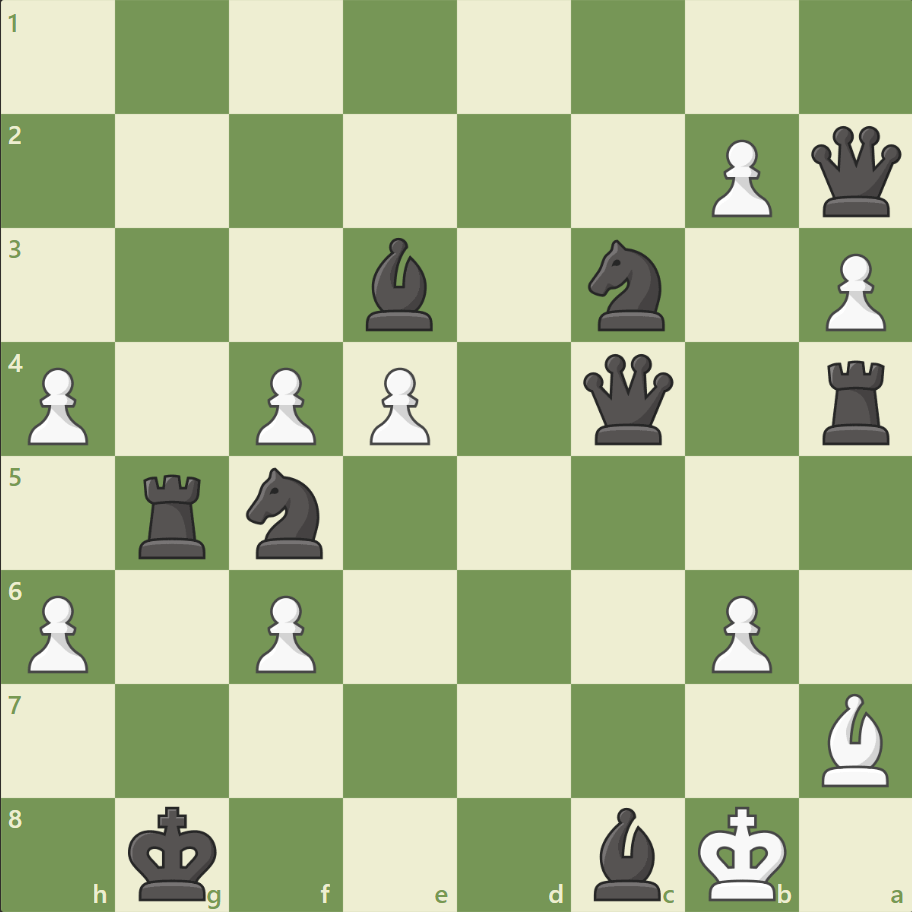B: (812, 687, 896, 790)
K: (692, 798, 792, 906)
P: (701, 586, 776, 677), (247, 586, 322, 677), (20, 586, 95, 677), (247, 359, 322, 450), (20, 359, 95, 450), (701, 132, 776, 223), (361, 359, 435, 450), (815, 246, 889, 337)
b: (585, 801, 669, 904), (358, 233, 442, 336)
k: (124, 798, 224, 906)
n: (238, 461, 335, 564), (579, 234, 676, 337)
q: (578, 349, 677, 449), (805, 122, 904, 222)
r: (814, 352, 897, 449), (133, 466, 215, 563)
